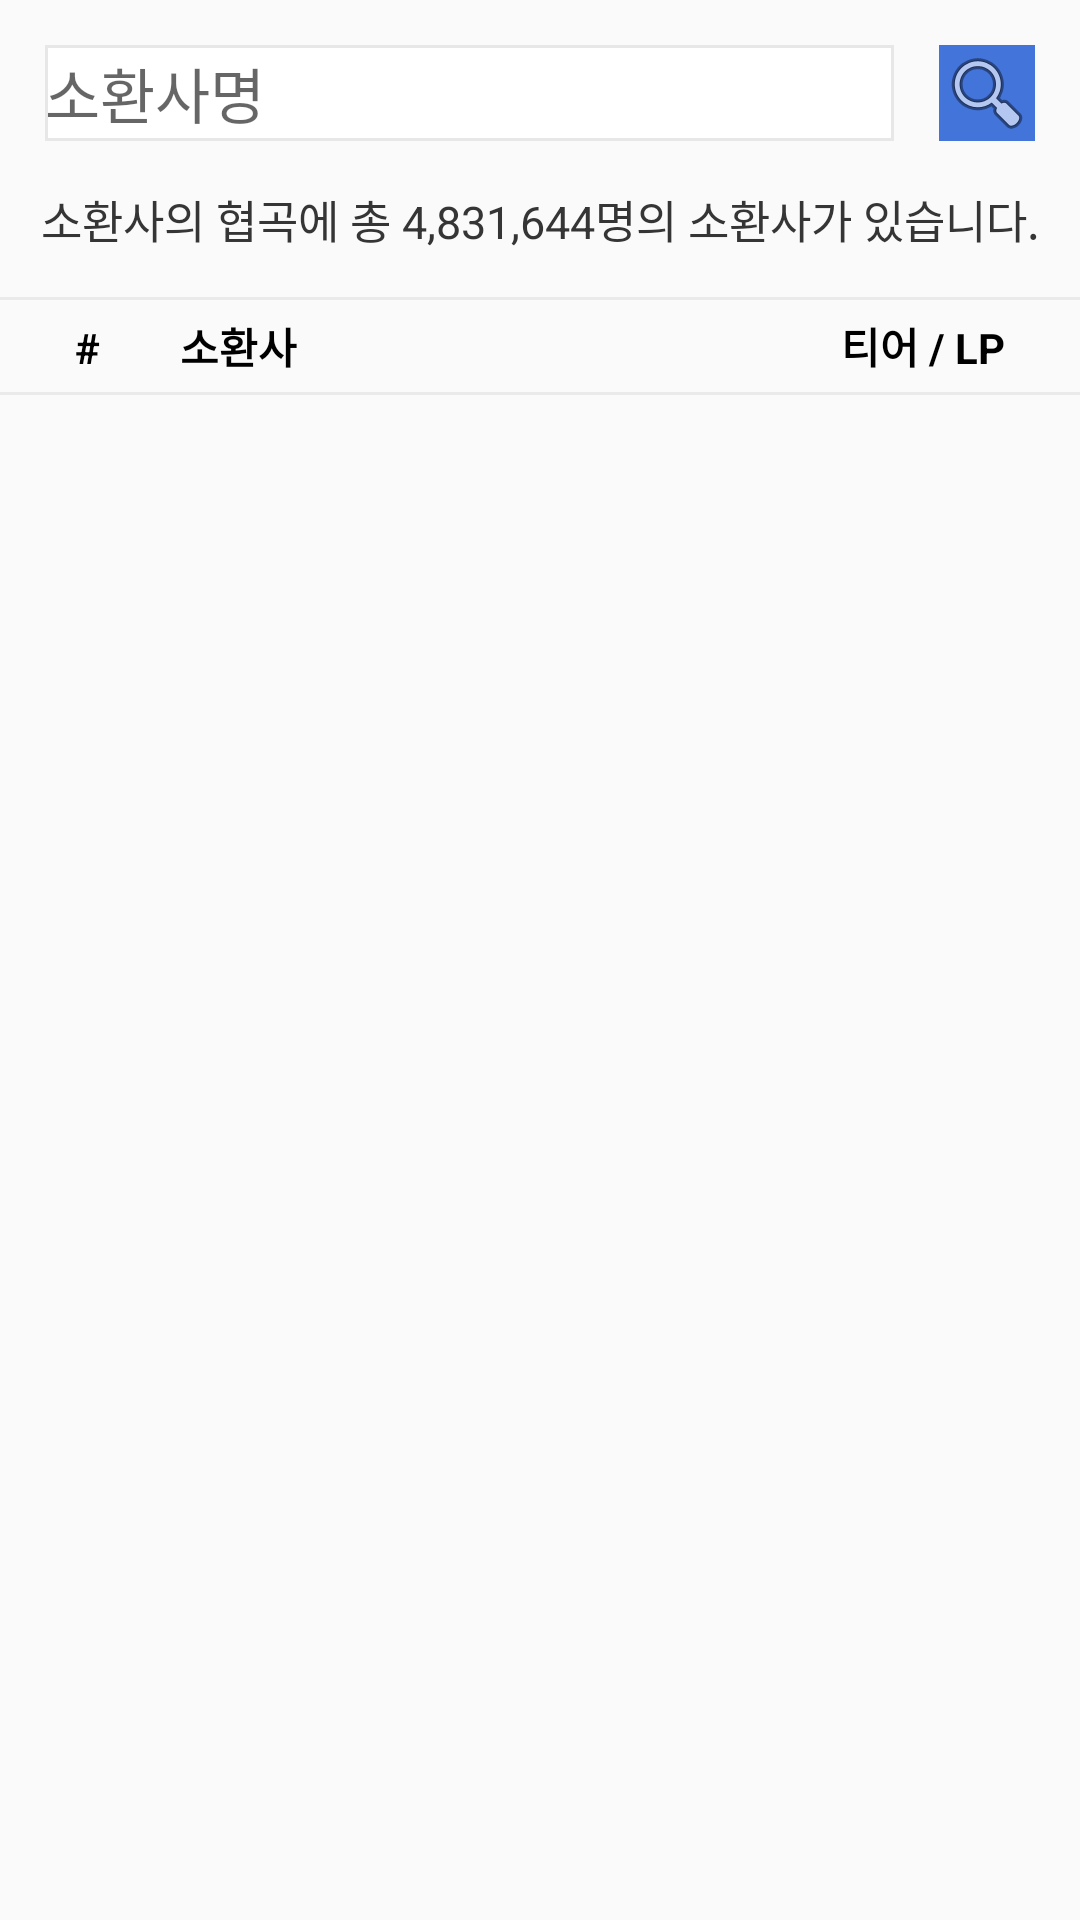

Icon click points for this 1080px x 1920px phone screenshot, format point (x, y):
search: point (987, 93)
